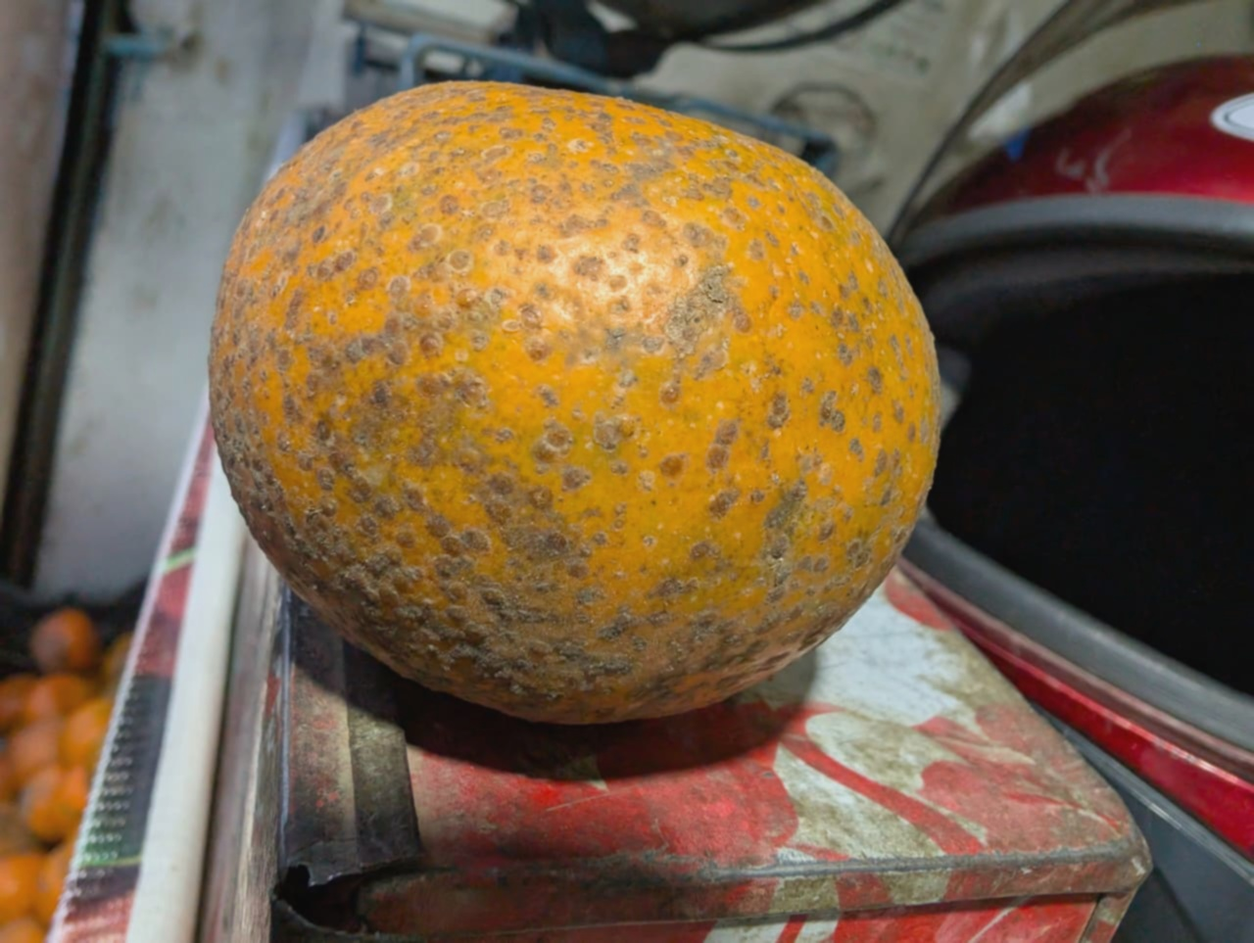orange: (204, 22, 1062, 794)
